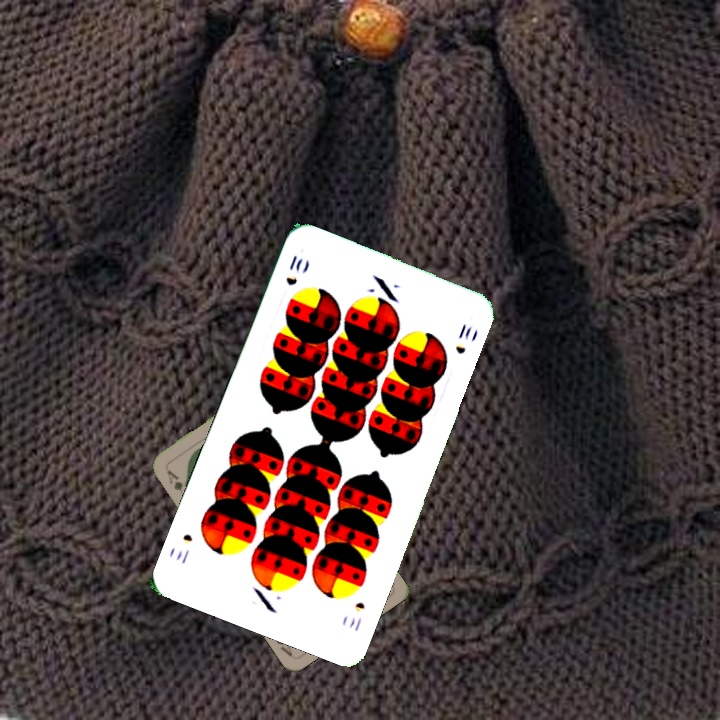GA: (163, 466, 188, 501)
S10: (281, 251, 306, 289), (345, 598, 368, 634)
